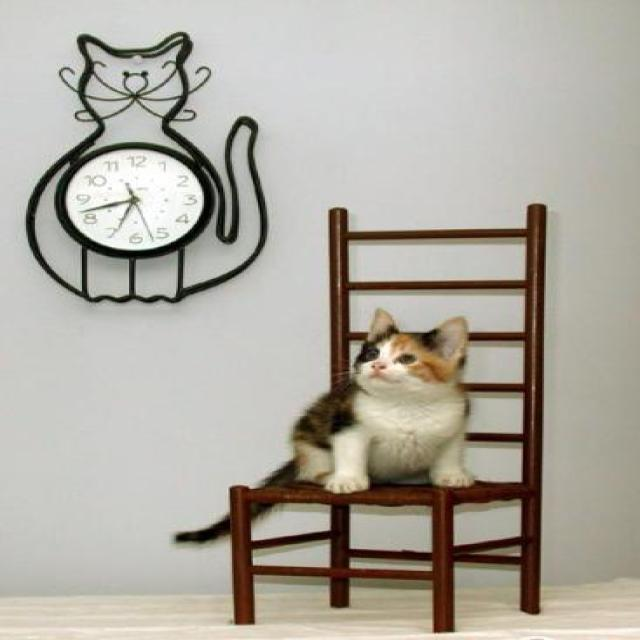Cats: (173, 306, 476, 543)
